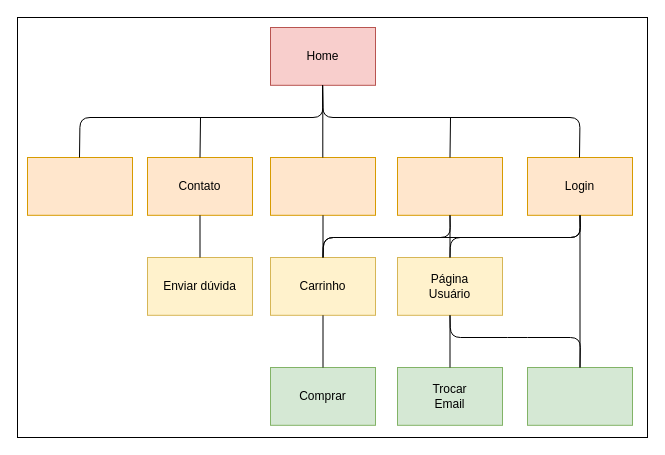
This 665x455 diagram has some shape labels left out. The centre of each missing label's shape, as x and y in pixels:
Loja: (323,185)
Registrar: (449,185)
Sobre nós: (79,185)
Trocar Senha: (579,395)
